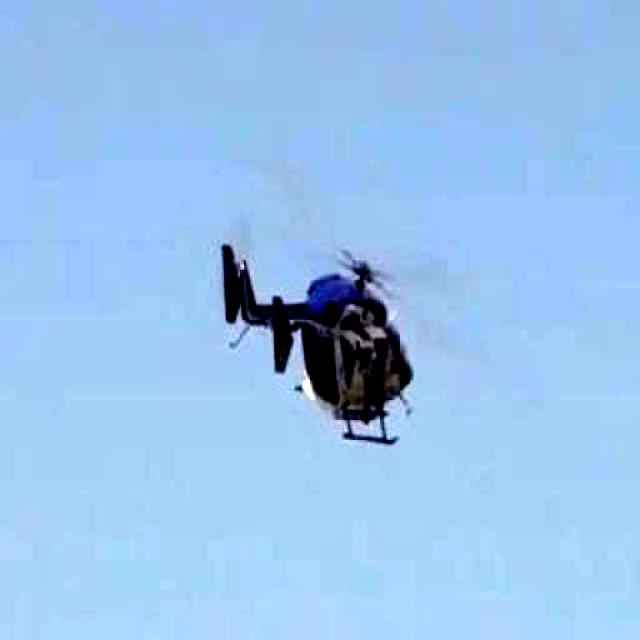drone: (188, 172, 530, 482)
